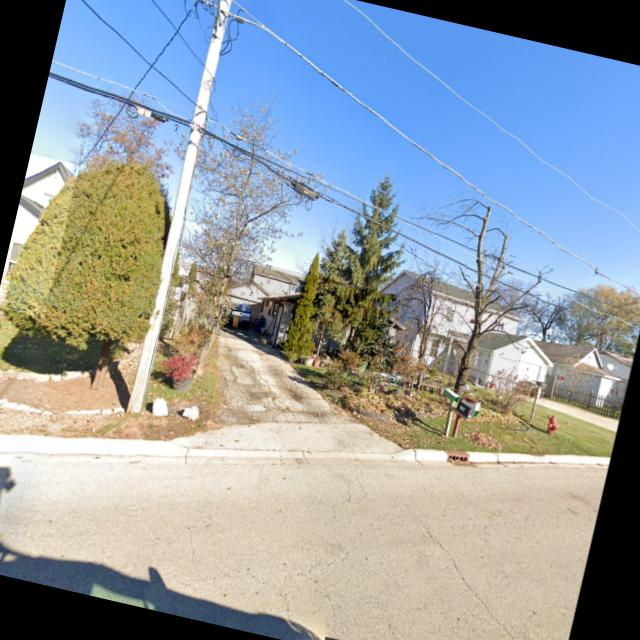House: (364, 265, 567, 402), (213, 256, 409, 376), (0, 153, 78, 317), (514, 331, 632, 412)
